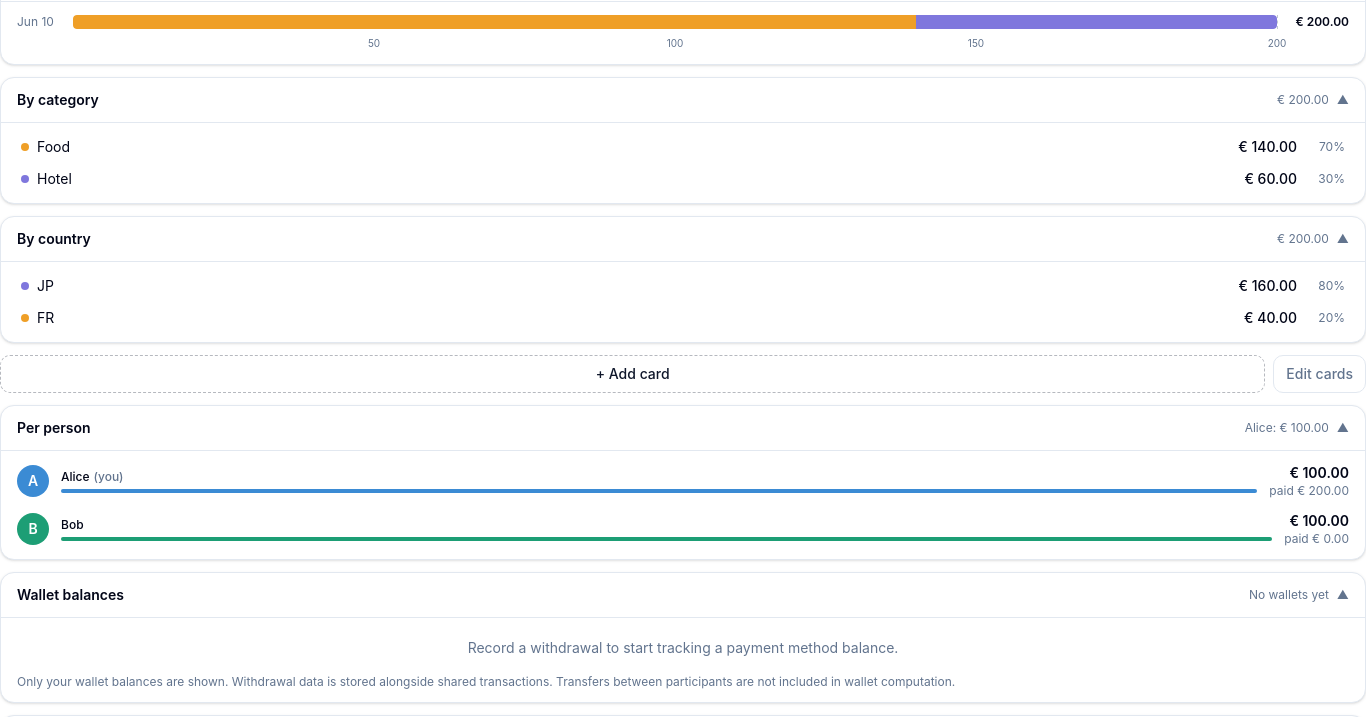
DashboardTab — pivot cards › re-evaluates the FIRST picker against the pair once a second dimension is chosen
(page scrolled)
Click the button "+ Add card".
click(633, 374)  # box [0,355,1265,393]
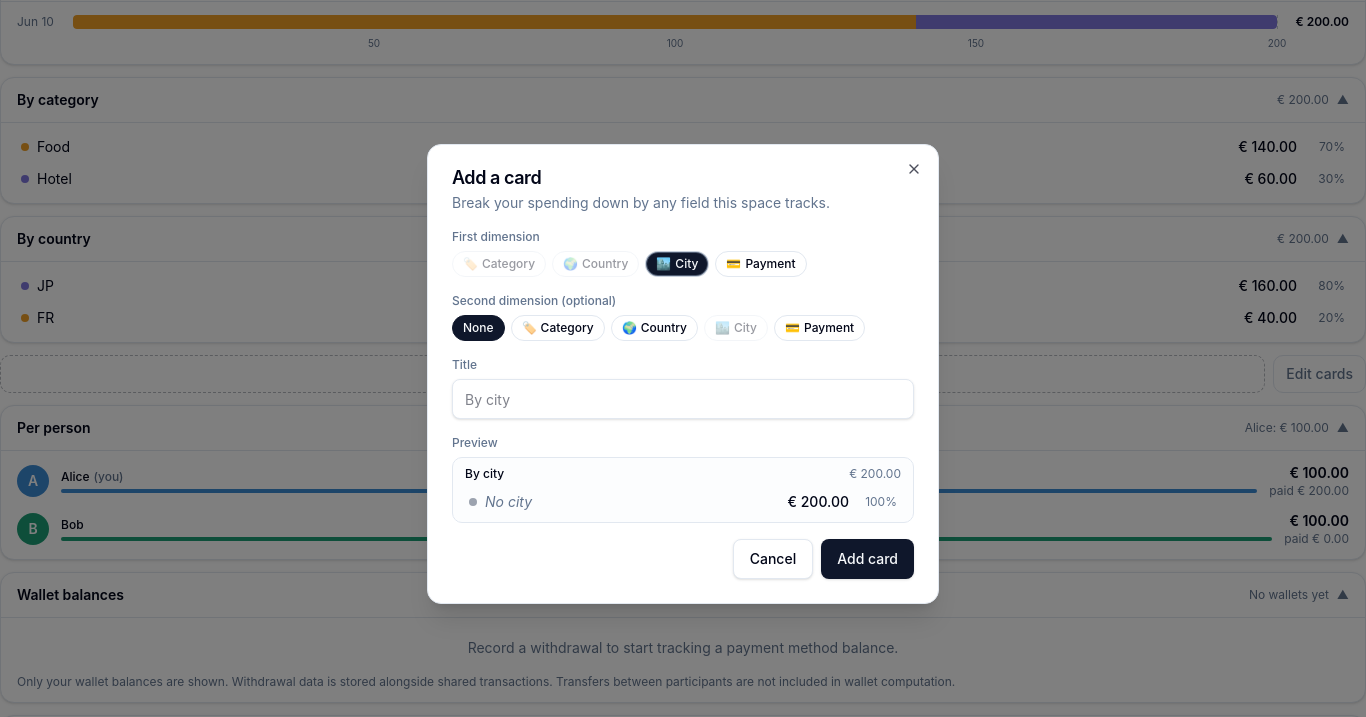
Now the button "🌍 Country" below "First dimension" is disabled, box [552,251,639,277]
Click the button "🏷️ Category" below "Second dimension (optional)".
click(558, 328)  # box [511,315,605,341]
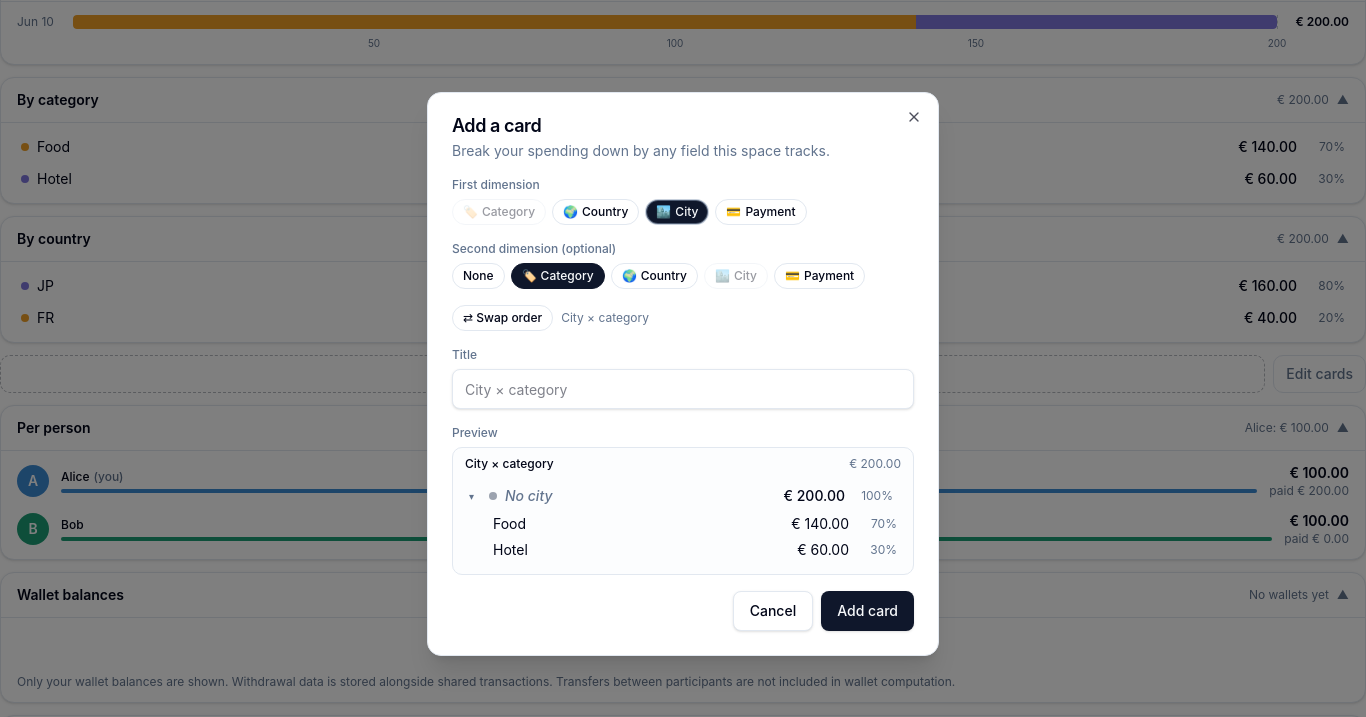
Now the button "🌍 Country" below "First dimension" is enabled
// …and it is now pickable as the primary of country × category.
Click the button "🌍 Country" below "First dimension".
click(596, 212)  # box [552,199,639,225]
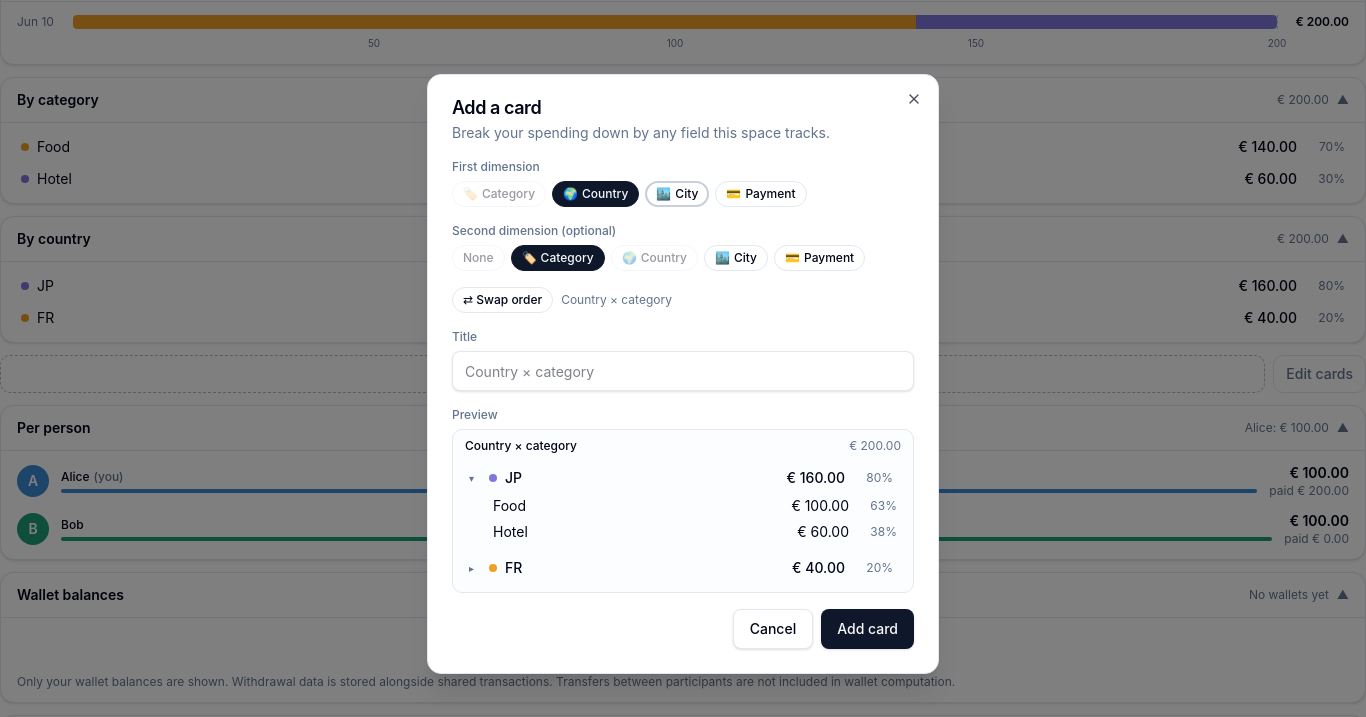
Now the button "None" is disabled, box [452,245,505,271]
